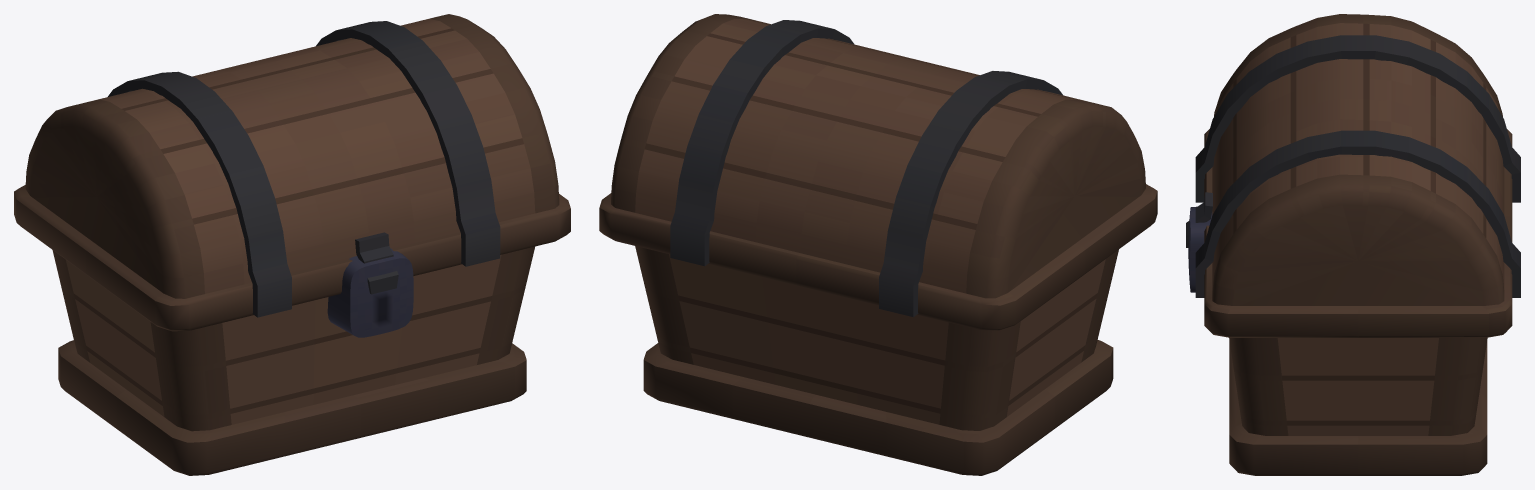
File: Chest.glb
3 renders of one model, left to right at view 1: azimuth 30°, elevation 25°; view 2: azimuth 150°, elevation 25°; view 3: azimuth 270°, elevation 25°, orthographic. The views are drawn at different scales.
Visible parts, largest first — view 1: Chest_Merged; view 2: Chest_Merged; view 3: Chest_Merged.
Part boxes in pixels (bbox=[...]): Chest_Merged: bbox=[14, 14, 570, 475]; Chest_Merged: bbox=[599, 14, 1157, 475]; Chest_Merged: bbox=[1186, 14, 1520, 475].
Size of the model in its own units: 1.15 by 0.8647 by 0.859.
